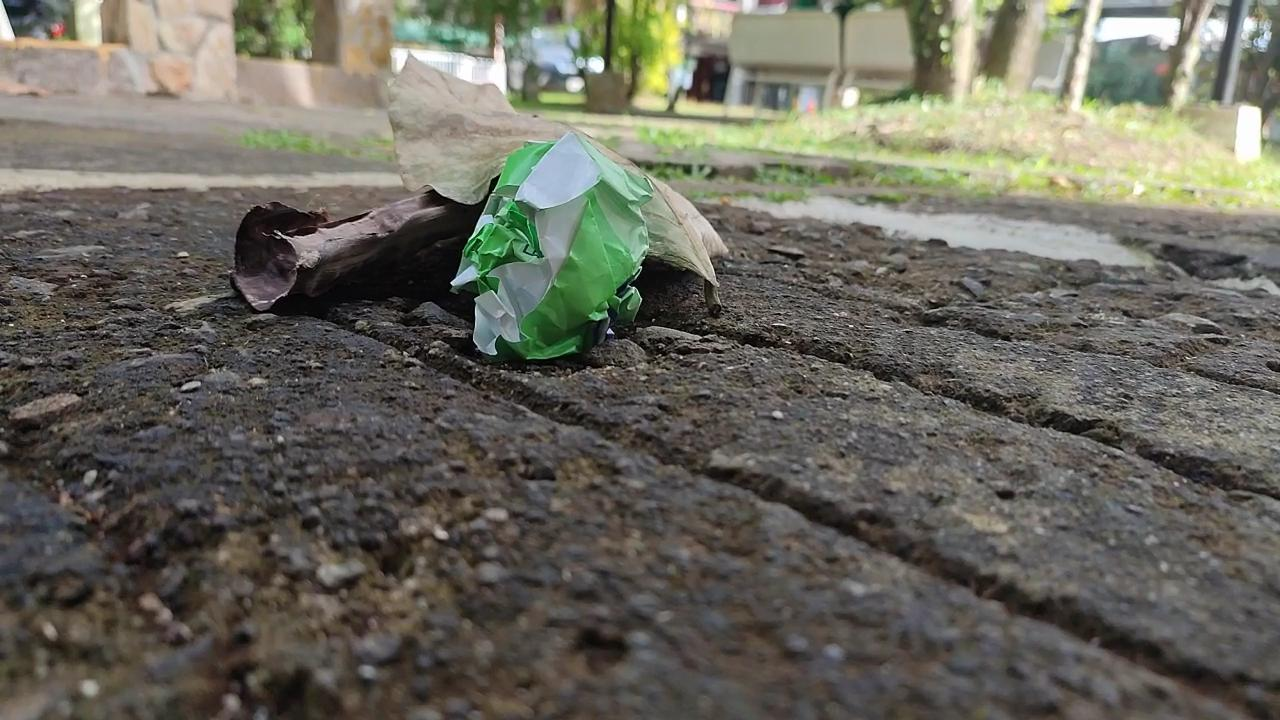Paper: (445, 121, 653, 382)
